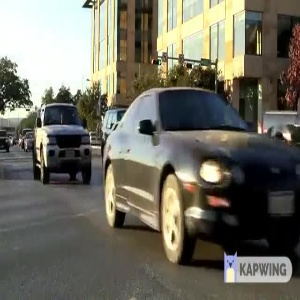car: (90, 82, 300, 279)
suv: (30, 93, 95, 186)
